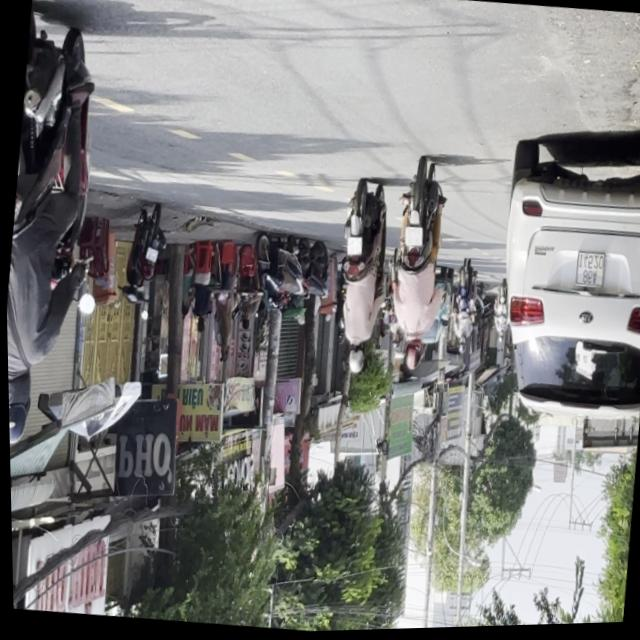helmet: (6, 367, 33, 447), (399, 337, 422, 375), (343, 345, 363, 378)
licenseplate: (0, 2, 115, 454), (377, 160, 455, 378), (325, 179, 395, 380)
nohelmet: (402, 228, 422, 251), (343, 237, 362, 259)
